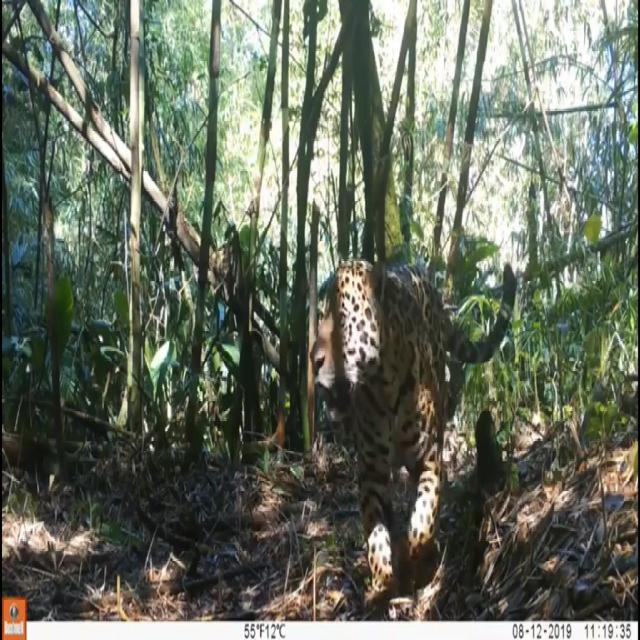Jaguar: (304, 240, 516, 598)
